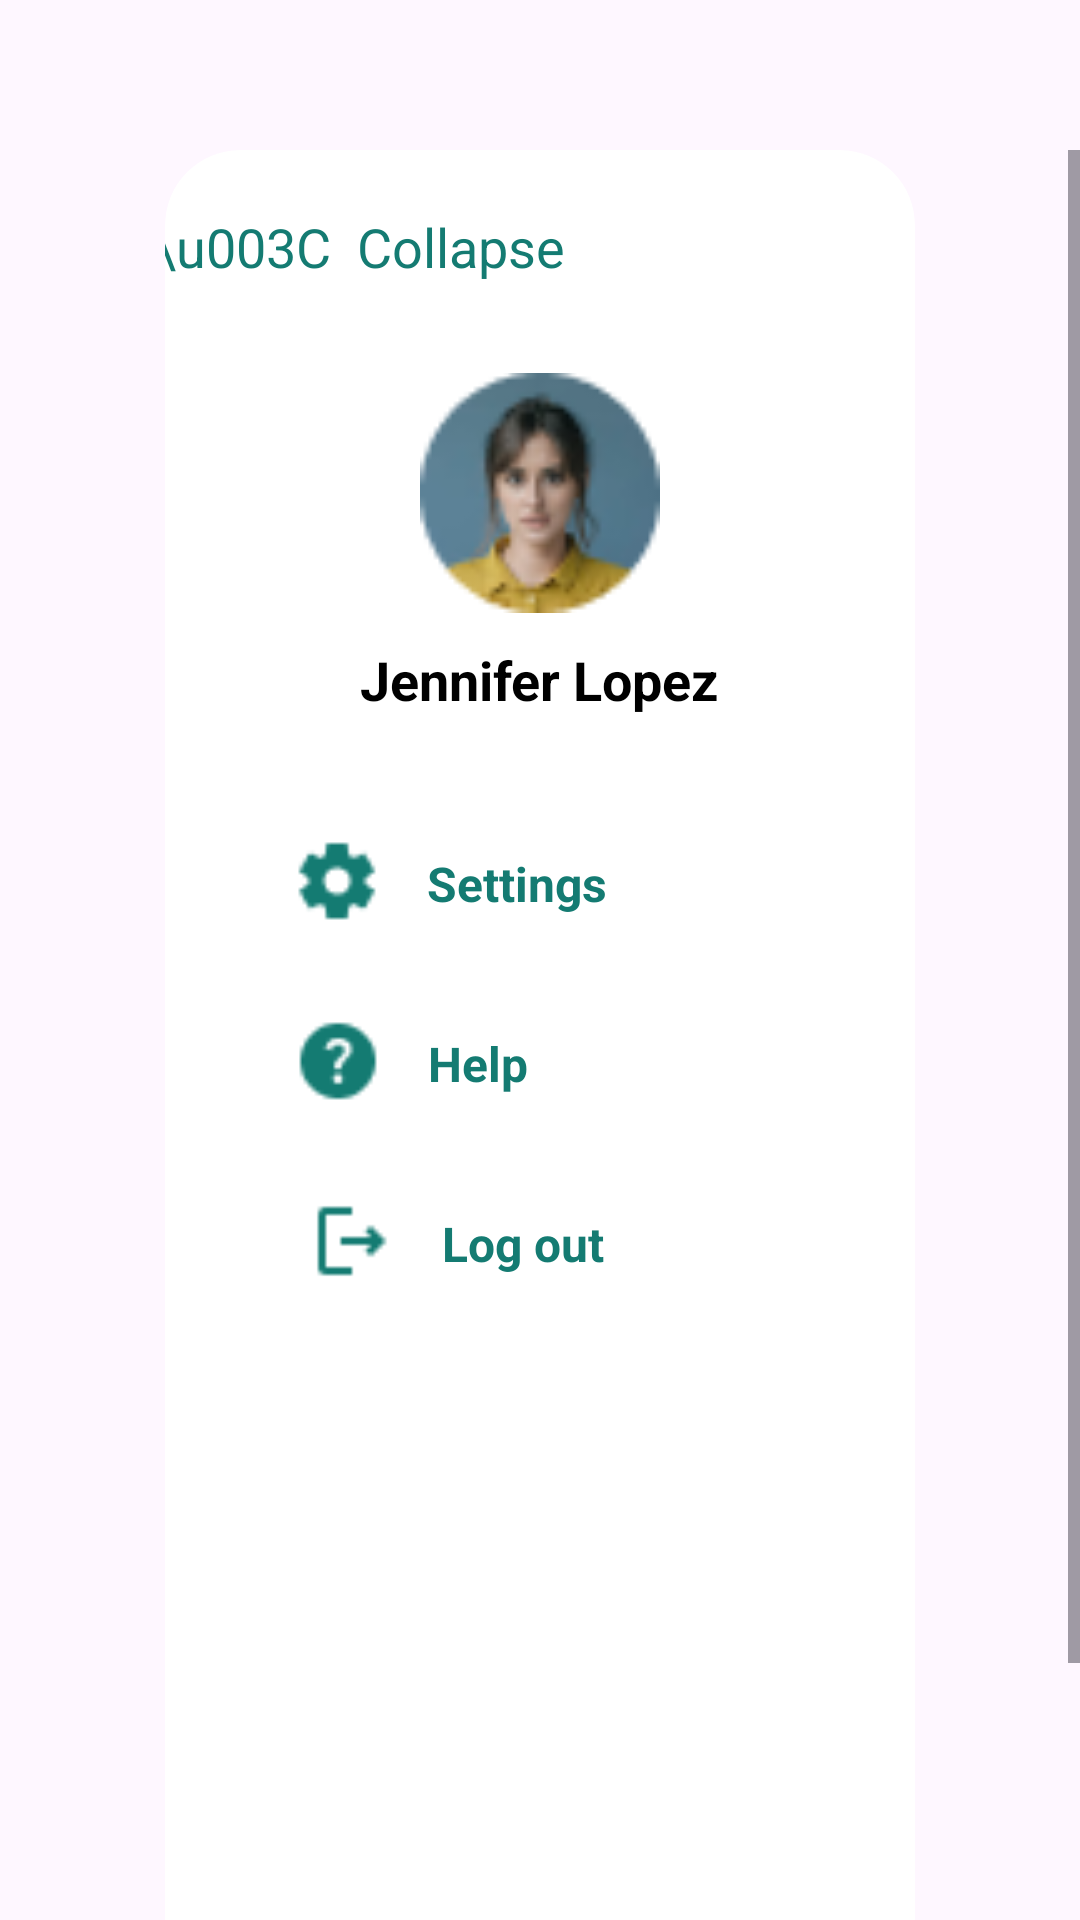

Icon bounding boxes for this 1080x1920 phone screenshot, format BBox(x1, y1, x2, y2):
profile picture: BBox(420, 373, 660, 613)
